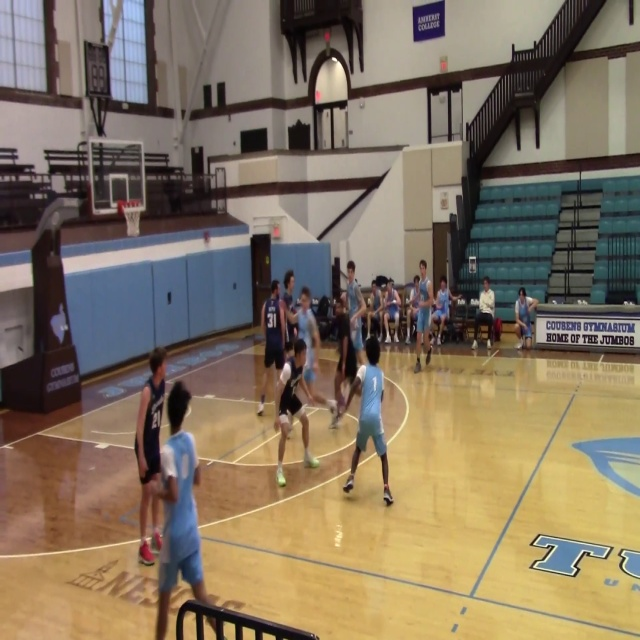Basketball: (471, 340, 478, 349)
